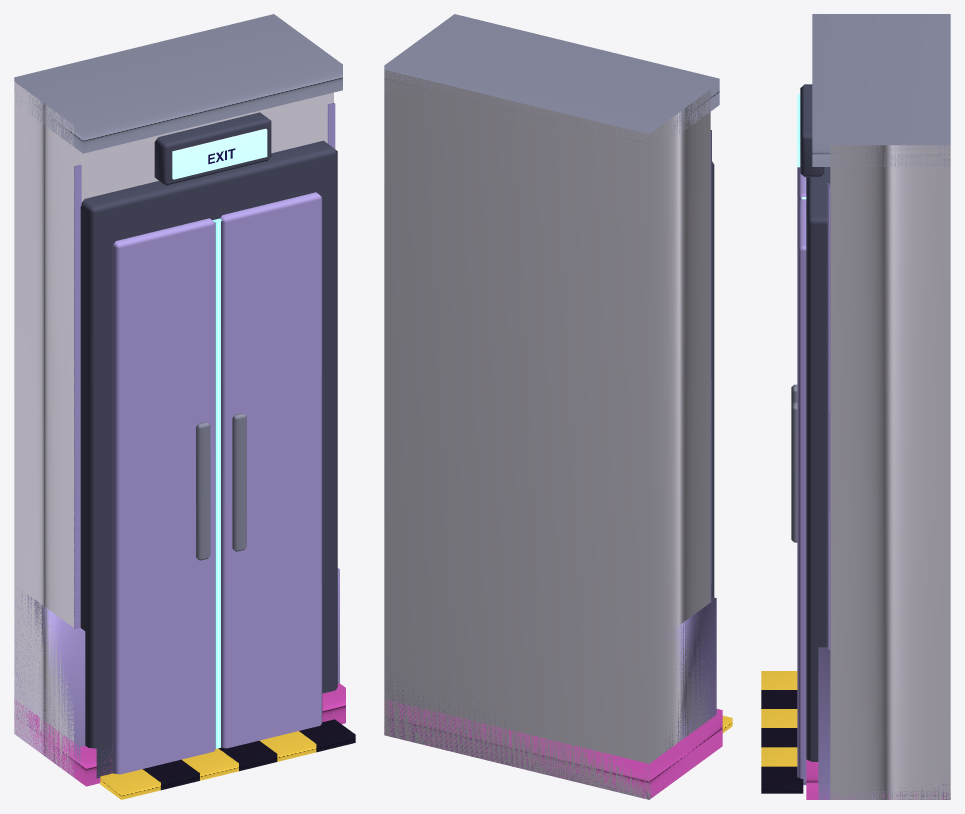
The model's file is wall_lab_door.glb.
3 renders of one model, left to right at view 1: azimuth 30°, elevation 25°; view 2: azimuth 150°, elevation 25°; view 3: azimuth 270°, elevation 25°, orthographic. The views are drawn at different scales.
Visible parts, largest first — view 1: Wall; view 2: Wall; view 3: Wall.
Part boxes in pixels (bbox=[...]): Wall: bbox=[14, 14, 355, 799]; Wall: bbox=[384, 14, 732, 799]; Wall: bbox=[761, 14, 950, 799].
Bounding box in the file's own units: 1 × 2.41 × 0.63.
